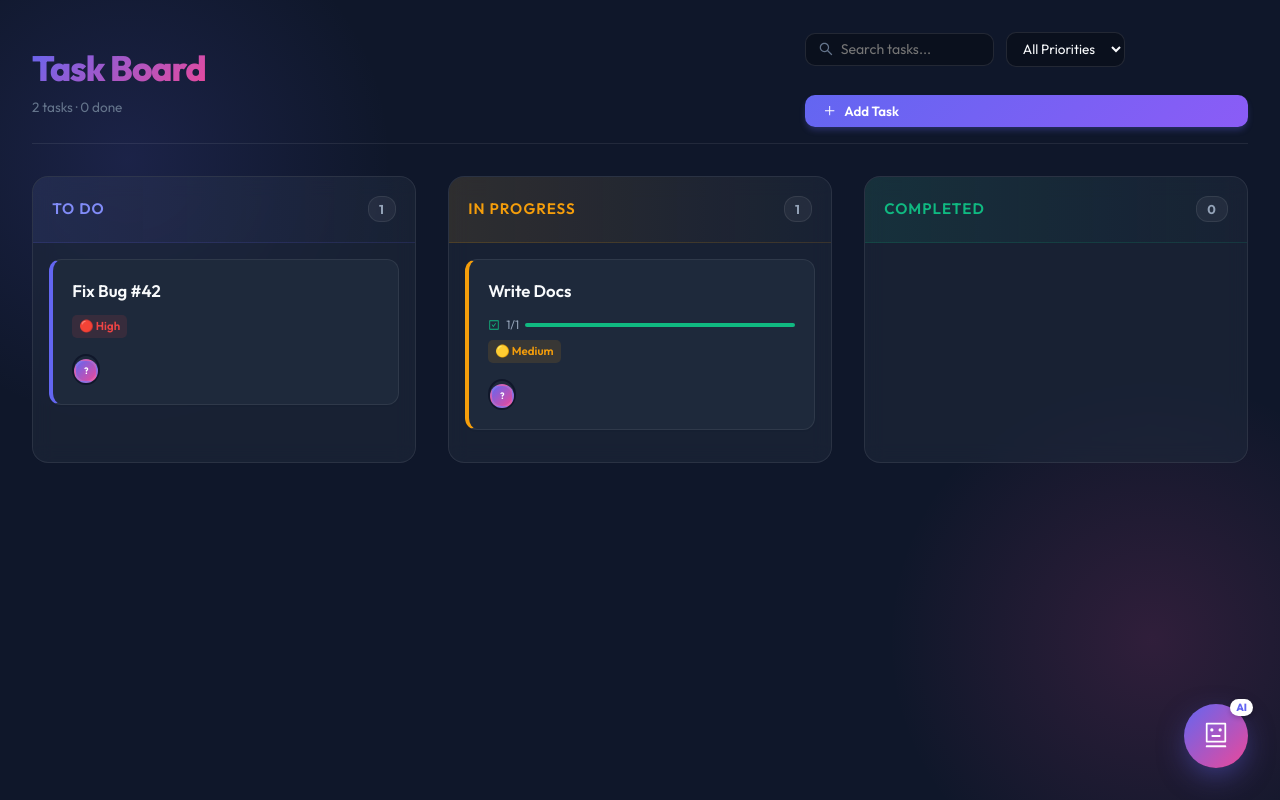
Test: Tasks Page › searches tasks by title
The width and height of the screenshot is (1280, 800).
Expected: the text "Fix Bug #42" is shown, [72,279,161,302]
Type "Write" into the field with placeholder "Search tasks...". click: (911, 49)
box: [841,40,981,58]
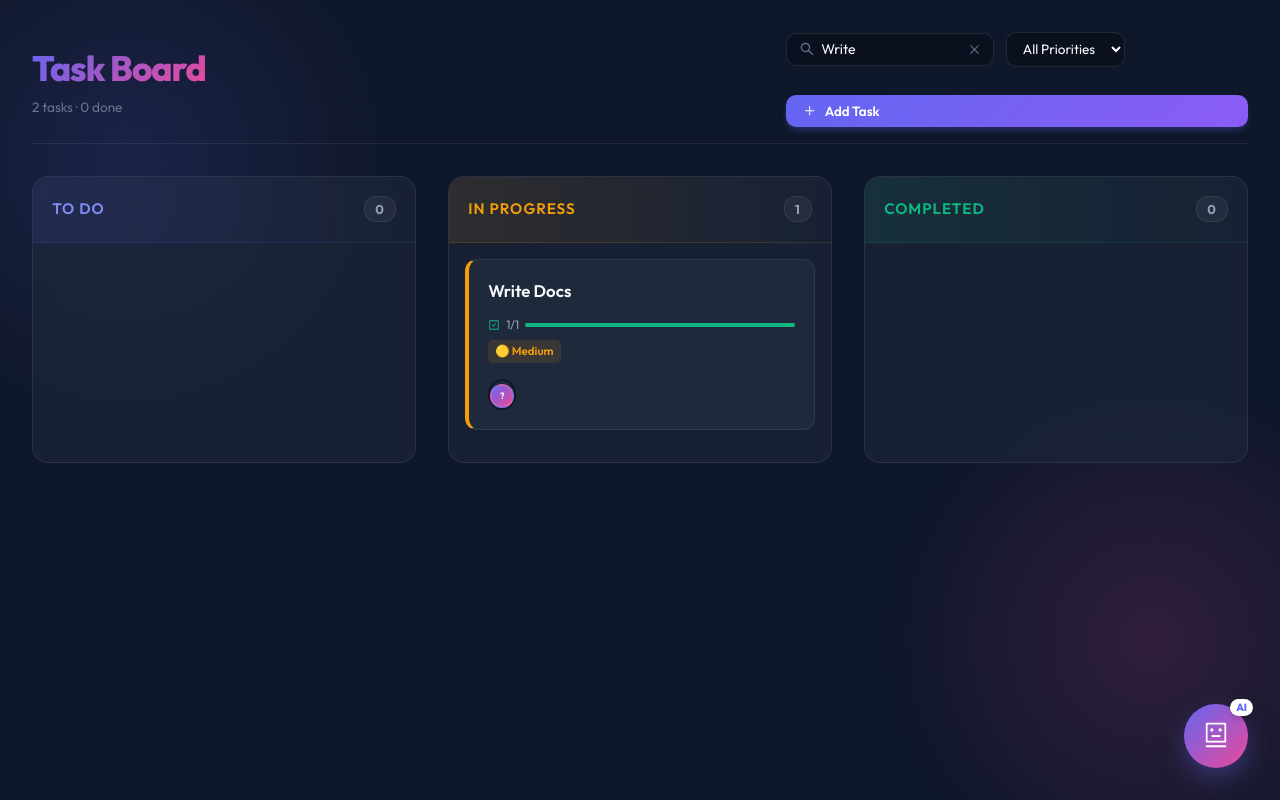
Expected: the text "Write Docs" is shown, [488,279,571,302]
Result: the text "Fix Bug #42" is gone
